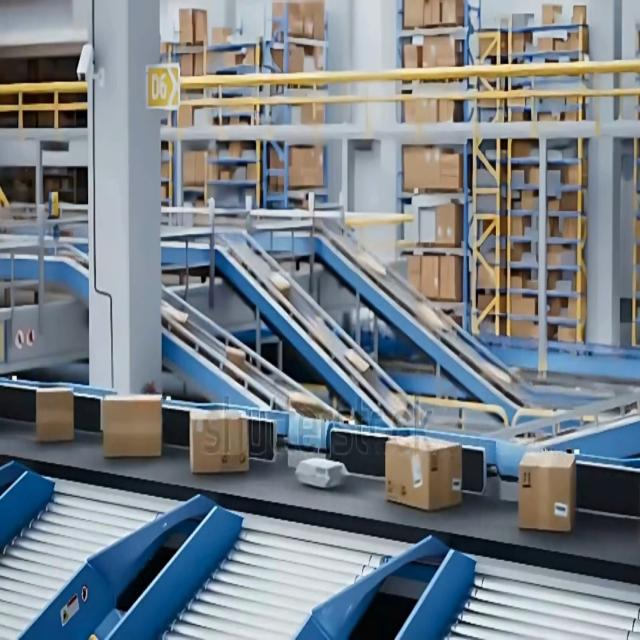product 1: (384, 434, 463, 512), (188, 407, 250, 474), (100, 393, 163, 458)
product 2: (295, 456, 348, 489)
